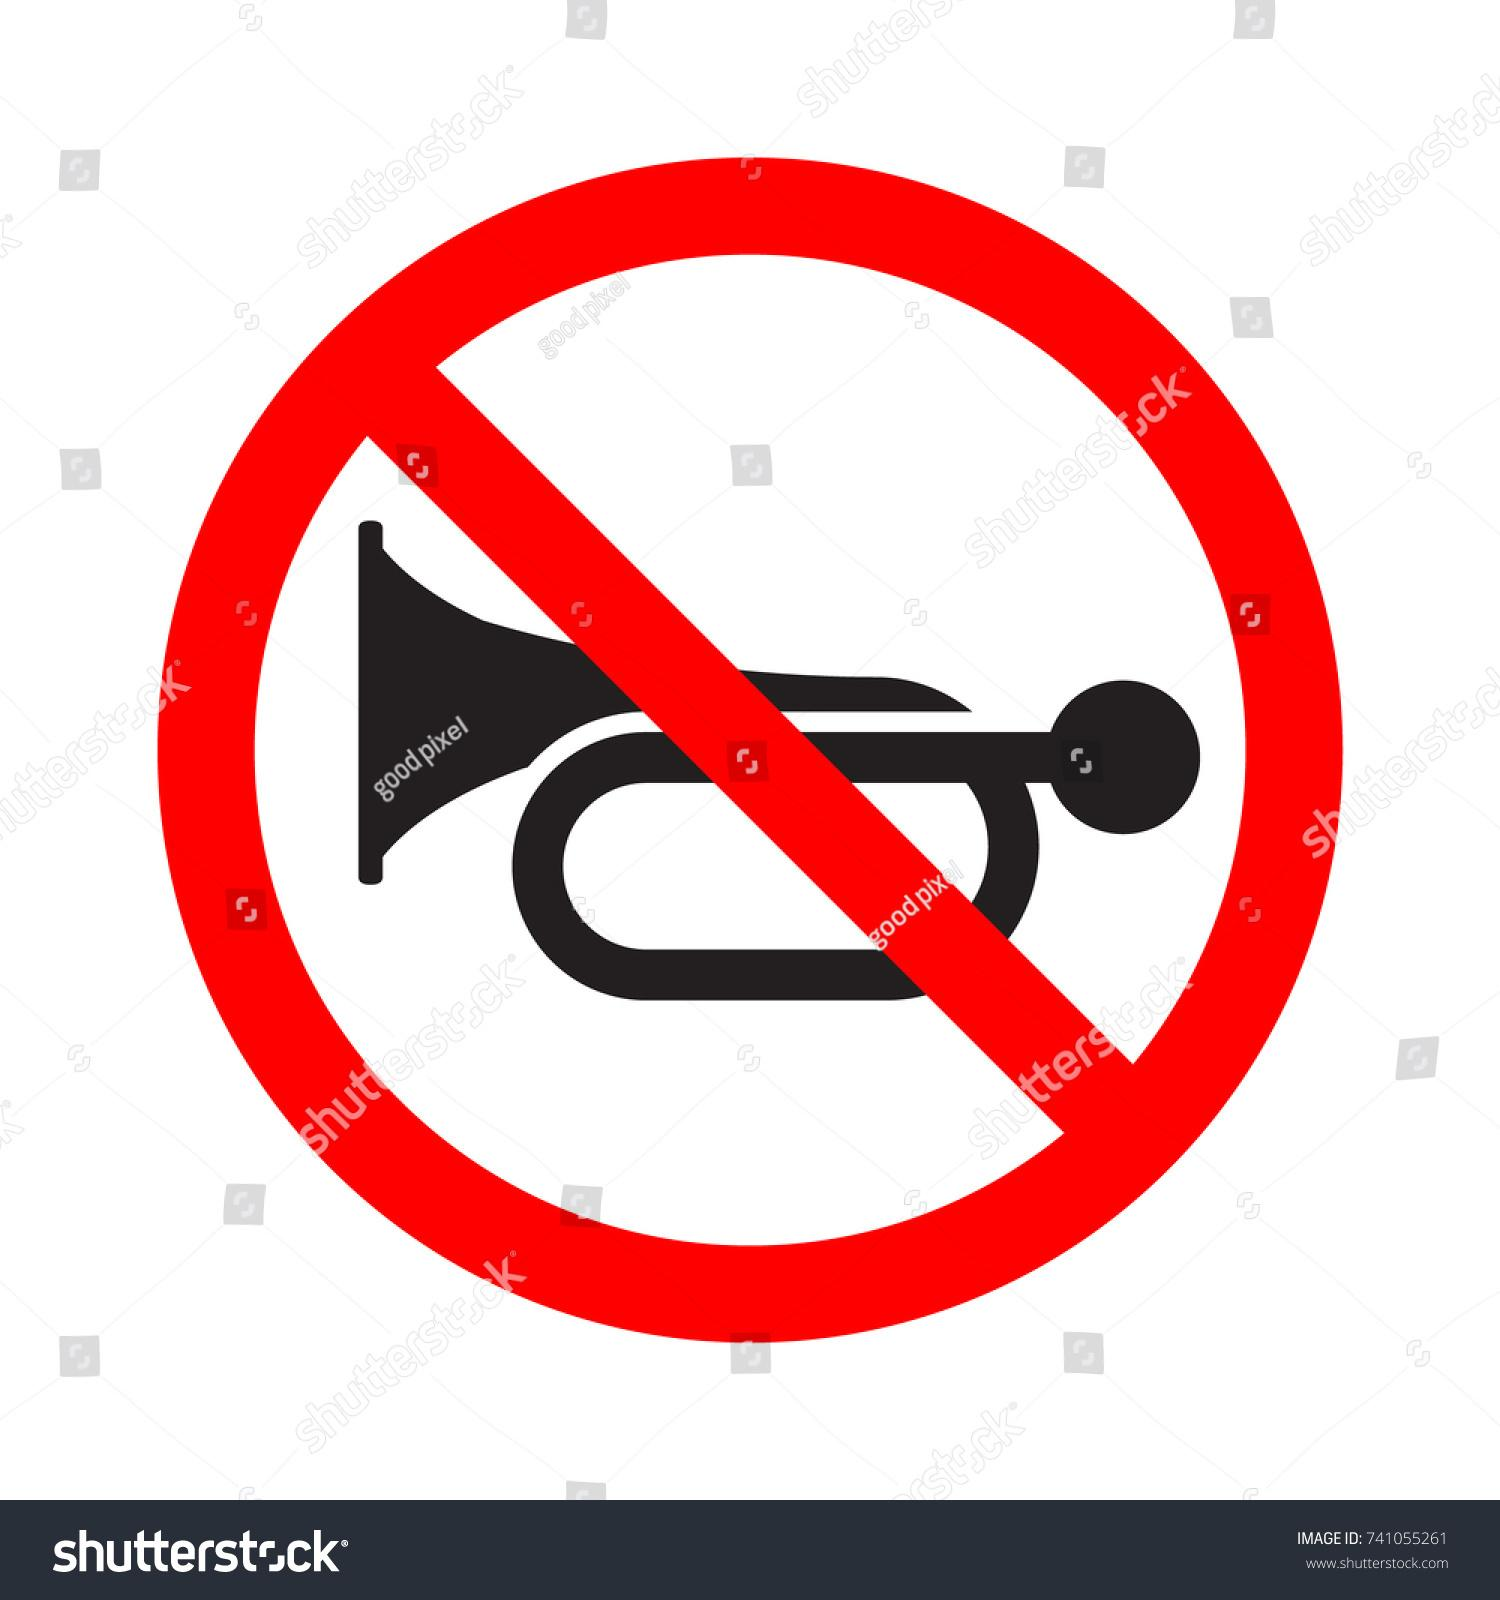Horn Prohibited: (117, 148, 1442, 1293)
